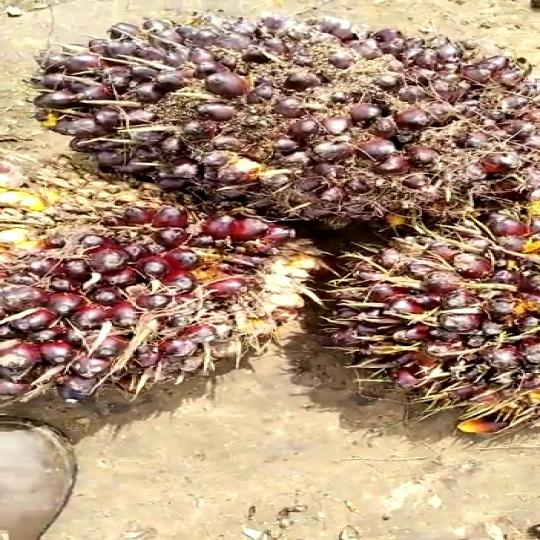kurang masak: (13, 16, 540, 219), (0, 186, 291, 432), (304, 211, 540, 447)
